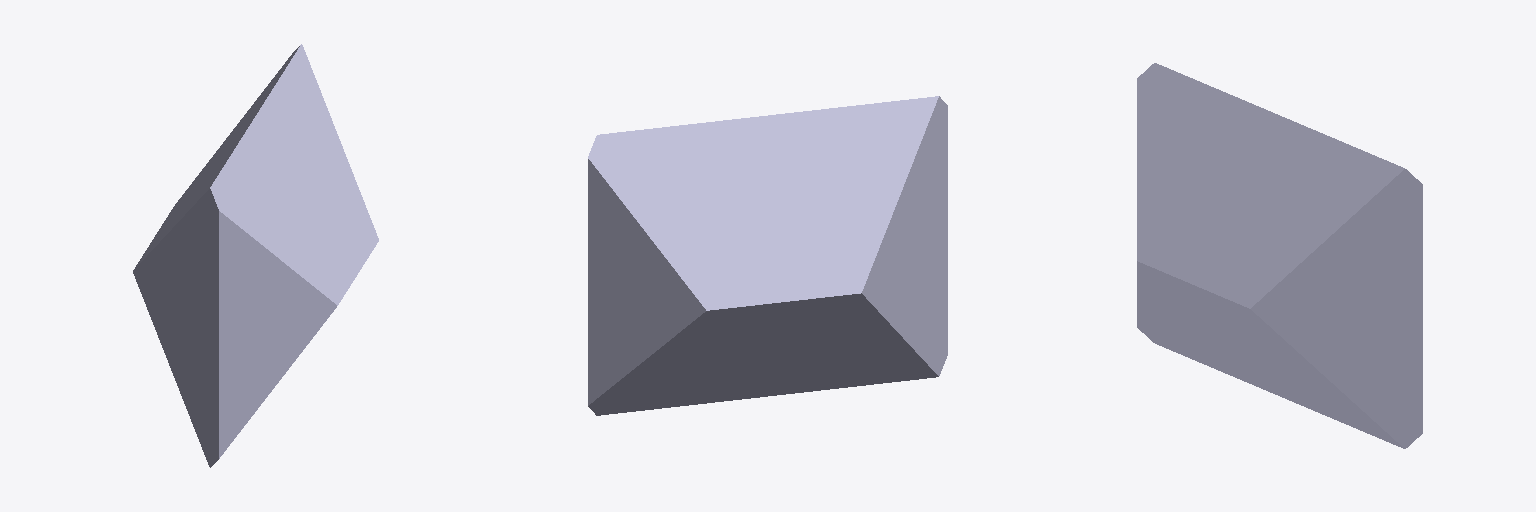
File: gypsum.obj
3 views of the same model, side by side, from view 1: azimuth 30°, elevation 25°; view 2: azimuth 150°, elevation 25°; view 3: azimuth 270°, elevation 25° (orthographic).
Size of the model in its own units: 1.4 by 1.73 by 1.6.